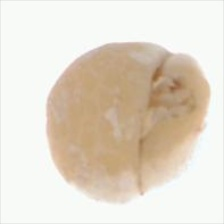L3: (140, 67, 194, 133)
L4: (45, 42, 211, 204)
